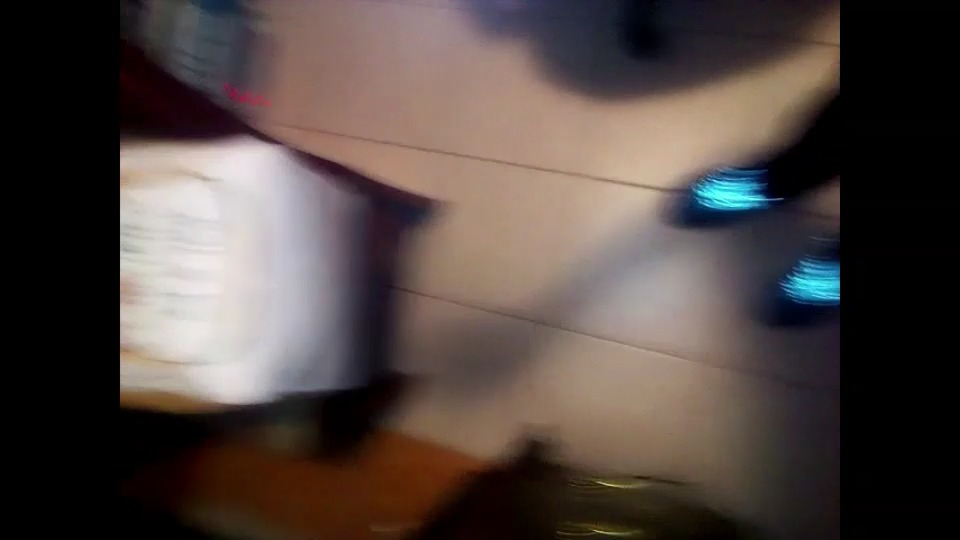maize_flour_green_label: (120, 137, 377, 408)
